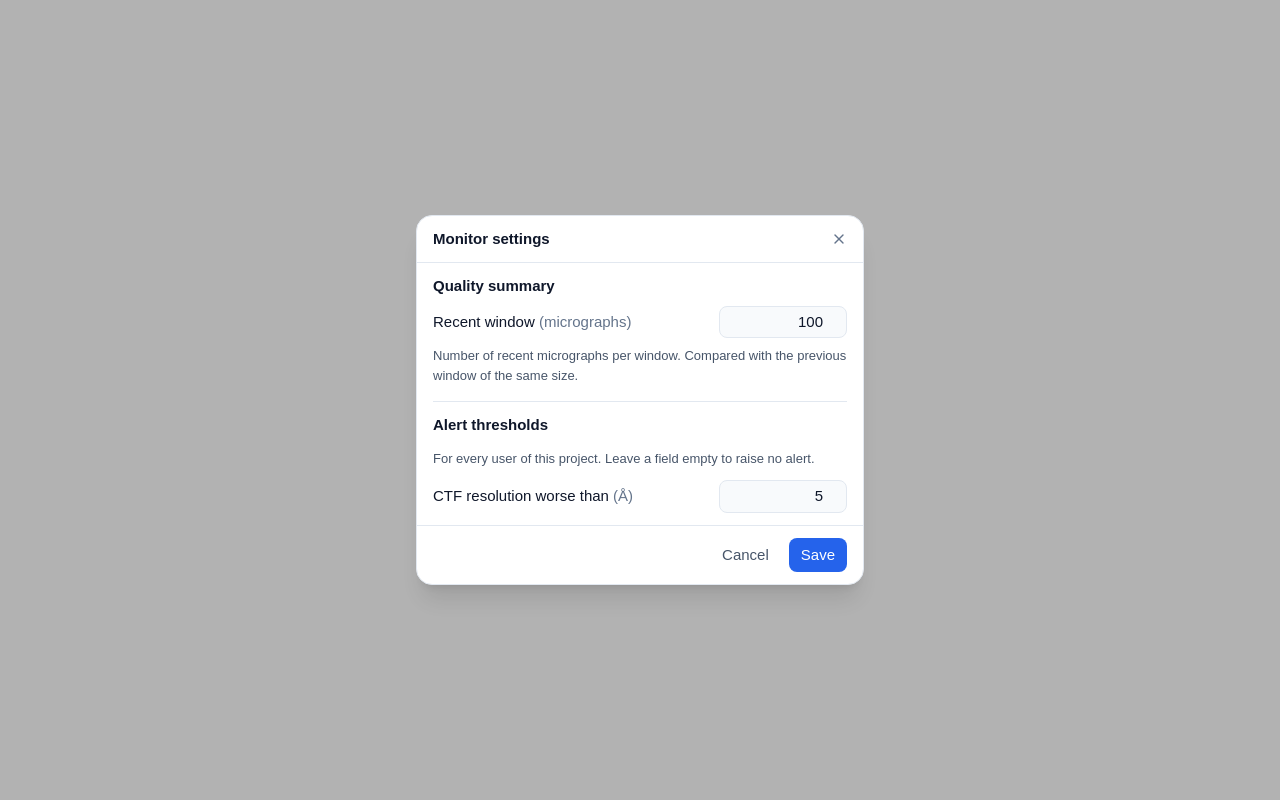
Test: Summary window in the thresholds dialog › rejects invalid window -1 before saving any project settings
This screenshot has width=1280, height=800.
Replace the text in the number field named "Quality summary window" with "-1" at (783, 322), box [719,306,847,338]
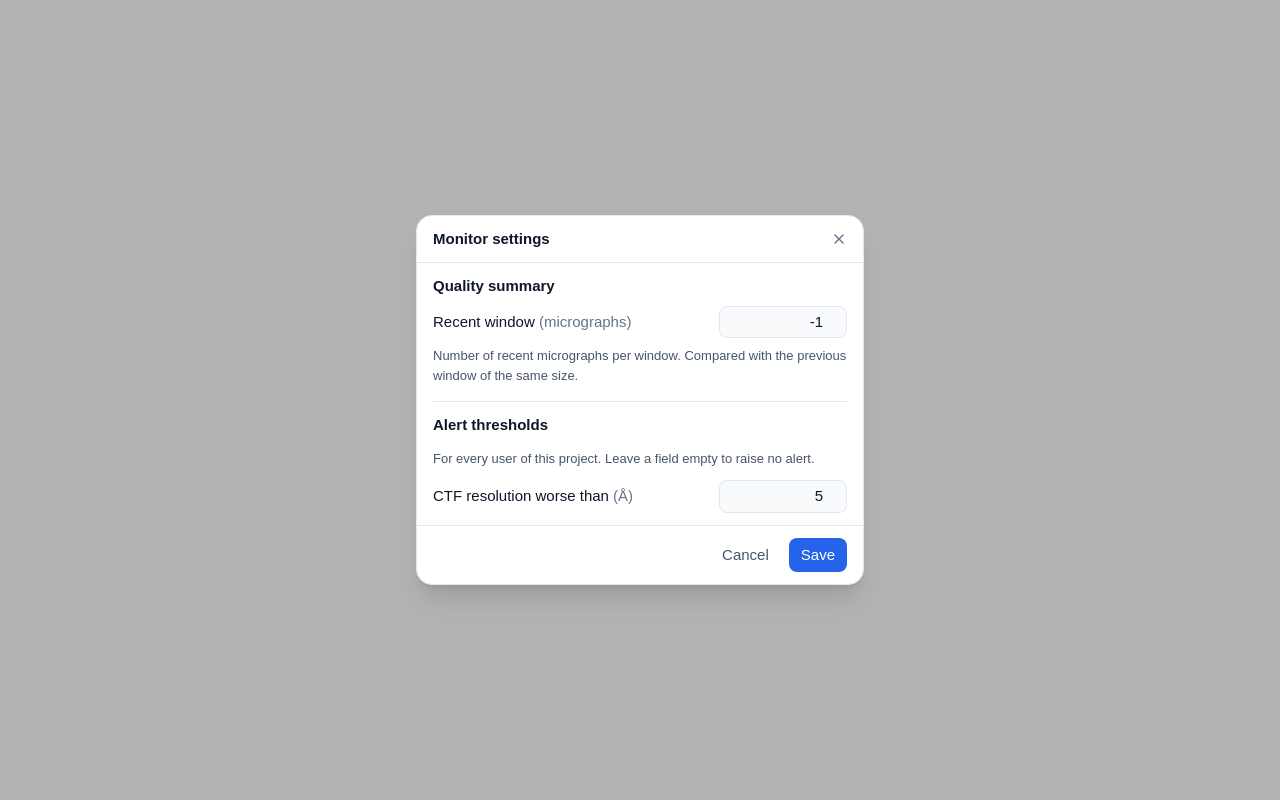
Click the button "Save".
click(818, 555)  # box [789,538,847,572]
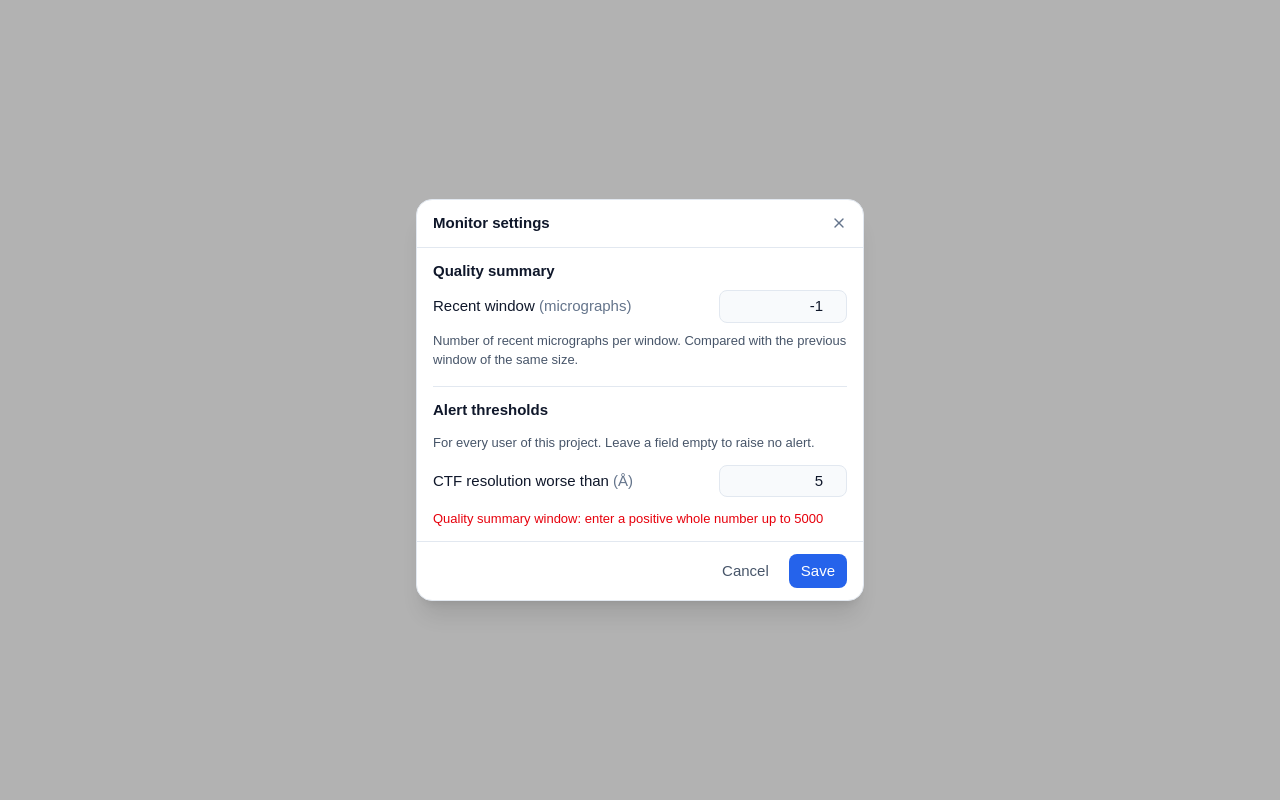
Now the message shows "positive whole number", box [433,511,823,526]
